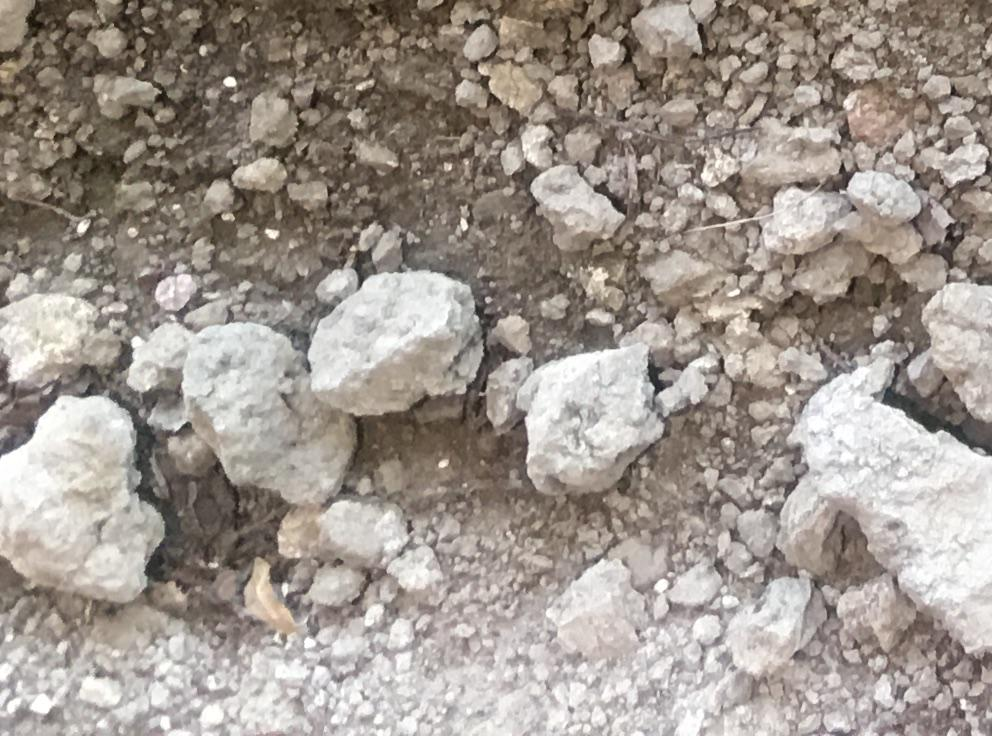block: (792, 373, 992, 671), (1, 399, 161, 604), (181, 322, 364, 499), (305, 269, 490, 409), (514, 342, 664, 499)
